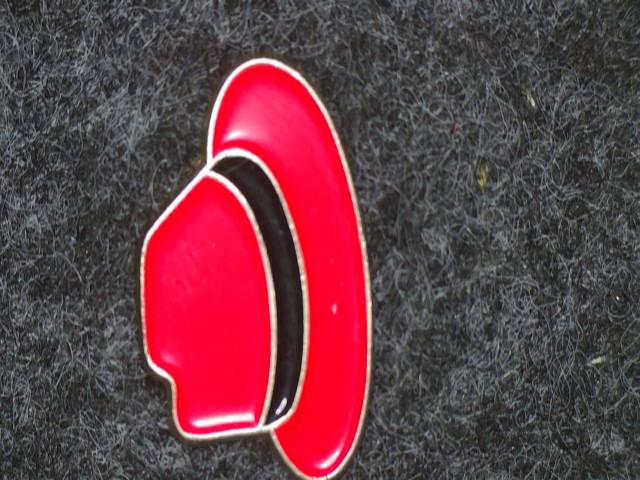Red-Hat: (89, 34, 447, 480)
